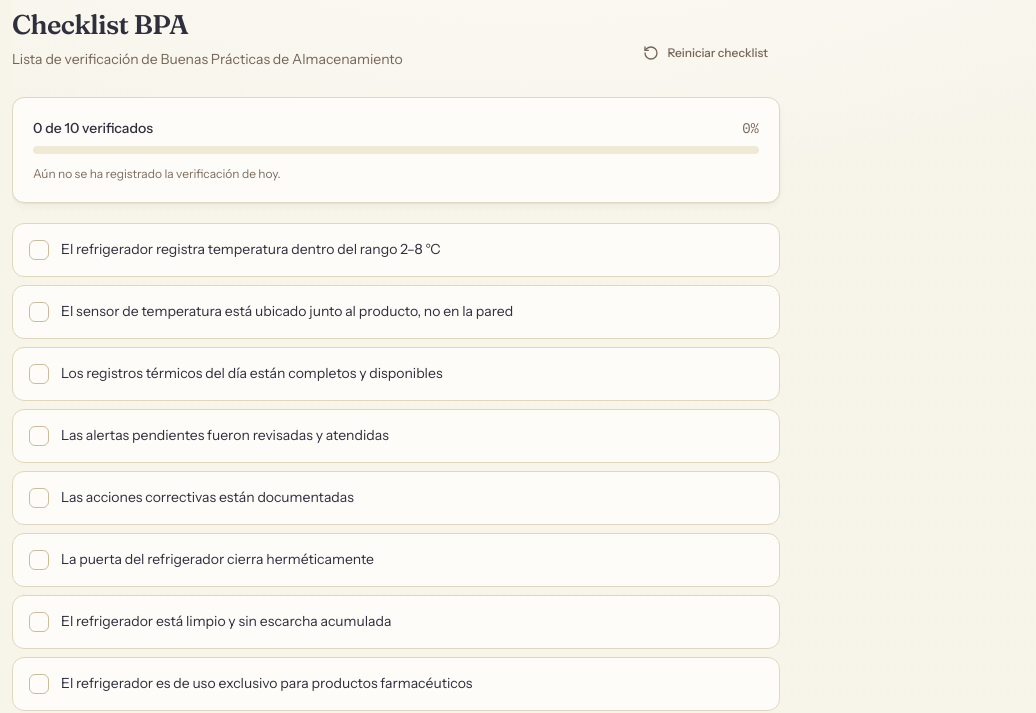
ChecklistBPAPage (HU-37) › advierte cuántos ítems quedarán declarados como no conformes
Click the button "El refrigerador registra temperatura dentro del rango 2–8 °C" at (396, 250), box [12,223,780,277]
(page scrolled)
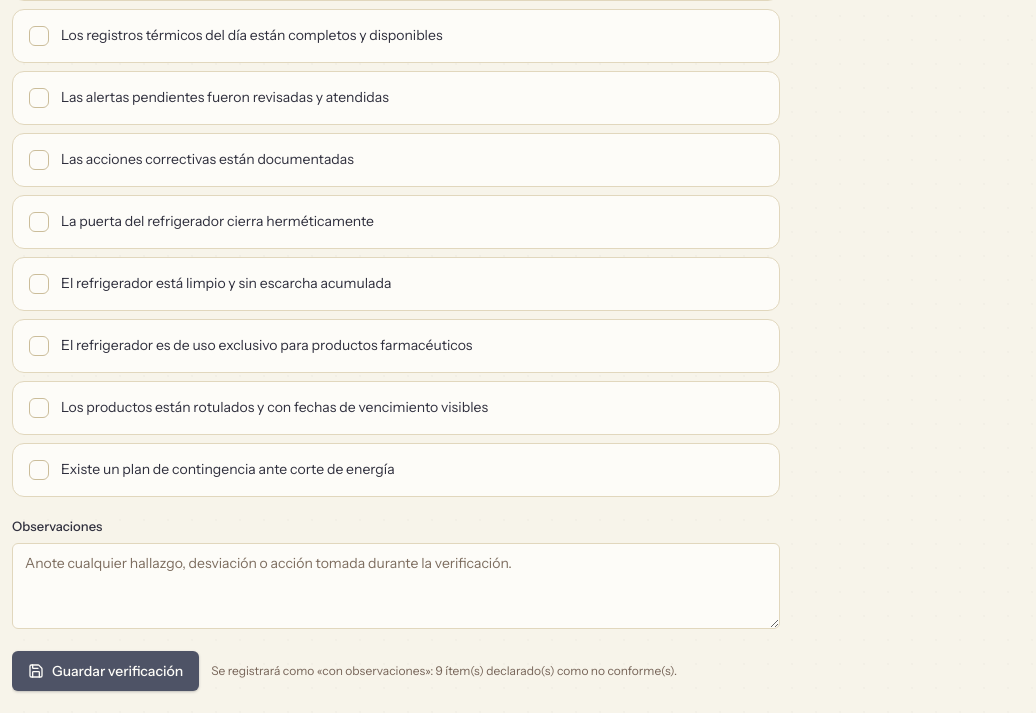
Expected: the text "9 ítem(s) declarado(s) como no conforme" is shown, [211,663,677,678]
